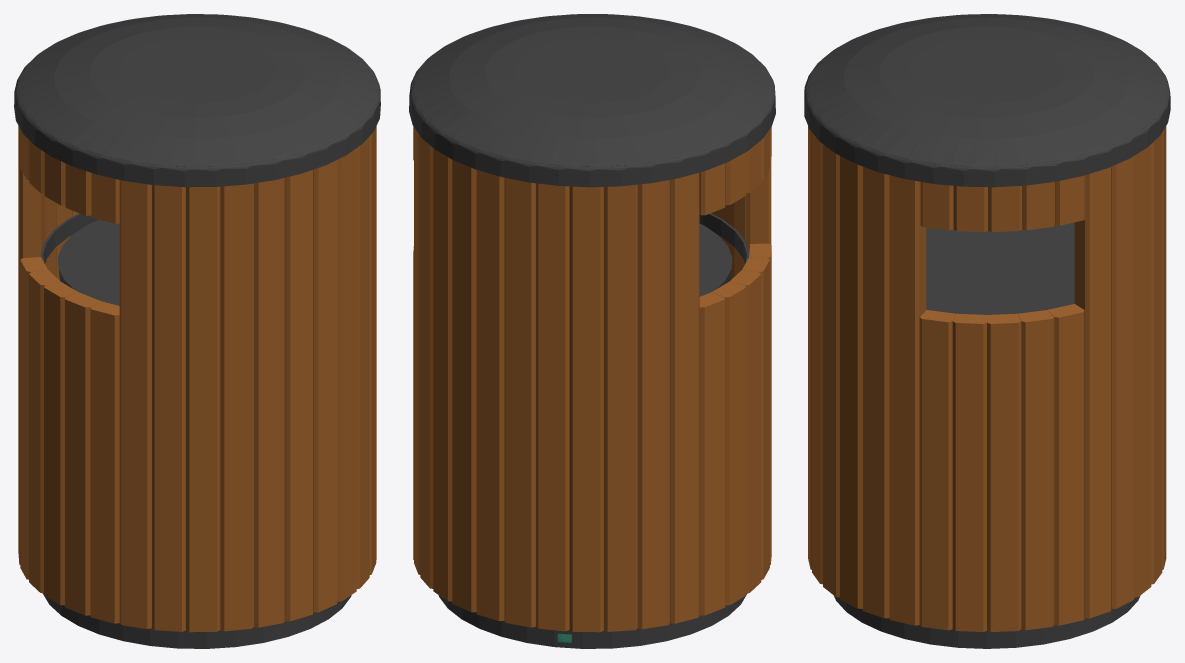
The picture shows the model from 3 angles, left to right: view 1: azimuth 30°, elevation 25°; view 2: azimuth 150°, elevation 25°; view 3: azimuth 270°, elevation 25°; orthographic projection.
Visible parts, largest first — view 1: mesh1.002_mesh1-geometry, mesh20.036_mesh20-geometry, mesh20.037_mesh20-geometry, mesh20.035_mesh20-geometry, mesh20.034_mesh20-geometry, mesh20.038_mesh20-geometry, mesh20.039_mesh20-geometry, mesh20.040_mesh20-geometry, mesh22.020_mesh22-geometry, mesh20.041_mesh20-geometry, mesh22.014_mesh22-geometry, mesh22.013_mesh22-geometry (+13 smaller); view 2: mesh1.002_mesh1-geometry, mesh20.031_mesh20-geometry, mesh20.030_mesh20-geometry, mesh20.029_mesh20-geometry, mesh20.032_mesh20-geometry, mesh20.028_mesh20-geometry, mesh20.033_mesh20-geometry, mesh20.027_mesh20-geometry, mesh20.026_mesh20-geometry, mesh20.025_mesh20-geometry, mesh22.011_mesh22-geometry, mesh22.012_mesh22-geometry (+13 smaller); view 3: mesh1.002_mesh1-geometry, mesh20.044_mesh20-geometry, mesh20.023_mesh20-geometry, mesh20.043_mesh20-geometry, mesh24.002_mesh24-geometry, mesh22.017_mesh22-geometry, mesh22.016_mesh22-geometry, mesh22.015_mesh22-geometry, mesh22.018_mesh22-geometry, mesh20.024_mesh20-geometry, mesh20.042_mesh20-geometry, mesh22.019_mesh22-geometry (+12 smaller).
Part boxes in pixels (x1,y1,x2,y2): mesh1.002_mesh1-geometry: [14, 14, 380, 187]; mesh20.036_mesh20-geometry: [186, 186, 220, 632]; mesh20.037_mesh20-geometry: [220, 183, 253, 631]; mesh20.035_mesh20-geometry: [152, 185, 185, 631]; mesh20.034_mesh20-geometry: [119, 180, 151, 629]; mesh20.038_mesh20-geometry: [254, 178, 285, 627]; mesh20.039_mesh20-geometry: [285, 170, 313, 621]; mesh20.040_mesh20-geometry: [313, 160, 337, 612]; mesh22.020_mesh22-geometry: [90, 301, 119, 623]; mesh20.041_mesh20-geometry: [337, 148, 356, 601]; mesh22.014_mesh22-geometry: [65, 292, 100, 615]; mesh22.013_mesh22-geometry: [44, 281, 78, 605]; mesh1.002_mesh1-geometry: [409, 14, 775, 187]; mesh20.031_mesh20-geometry: [603, 184, 637, 631]; mesh20.030_mesh20-geometry: [569, 186, 603, 632]; mesh20.029_mesh20-geometry: [536, 183, 569, 631]; mesh20.032_mesh20-geometry: [637, 180, 669, 629]; mesh20.028_mesh20-geometry: [504, 177, 535, 627]; mesh20.033_mesh20-geometry: [670, 172, 699, 623]; mesh20.027_mesh20-geometry: [476, 170, 504, 621]; mesh20.026_mesh20-geometry: [452, 160, 476, 612]; mesh20.025_mesh20-geometry: [433, 148, 452, 601]; mesh22.011_mesh22-geometry: [699, 292, 724, 615]; mesh22.012_mesh22-geometry: [711, 281, 745, 605]; mesh1.002_mesh1-geometry: [804, 14, 1170, 187]; mesh20.044_mesh20-geometry: [889, 175, 926, 625]; mesh20.023_mesh20-geometry: [1074, 167, 1111, 618]; mesh20.043_mesh20-geometry: [862, 166, 889, 618]; mesh24.002_mesh24-geometry: [926, 222, 1074, 314]; mesh22.017_mesh22-geometry: [987, 313, 1021, 631]; mesh22.016_mesh22-geometry: [952, 313, 986, 631]; mesh22.015_mesh22-geometry: [919, 310, 955, 630]; mesh22.018_mesh22-geometry: [1018, 310, 1054, 630]; mesh20.024_mesh20-geometry: [1111, 156, 1133, 608]; mesh20.042_mesh20-geometry: [840, 156, 862, 608]; mesh22.019_mesh22-geometry: [1048, 304, 1084, 625].
Size of the model in its own units: 0.4782 by 0.7369 by 0.4778.
